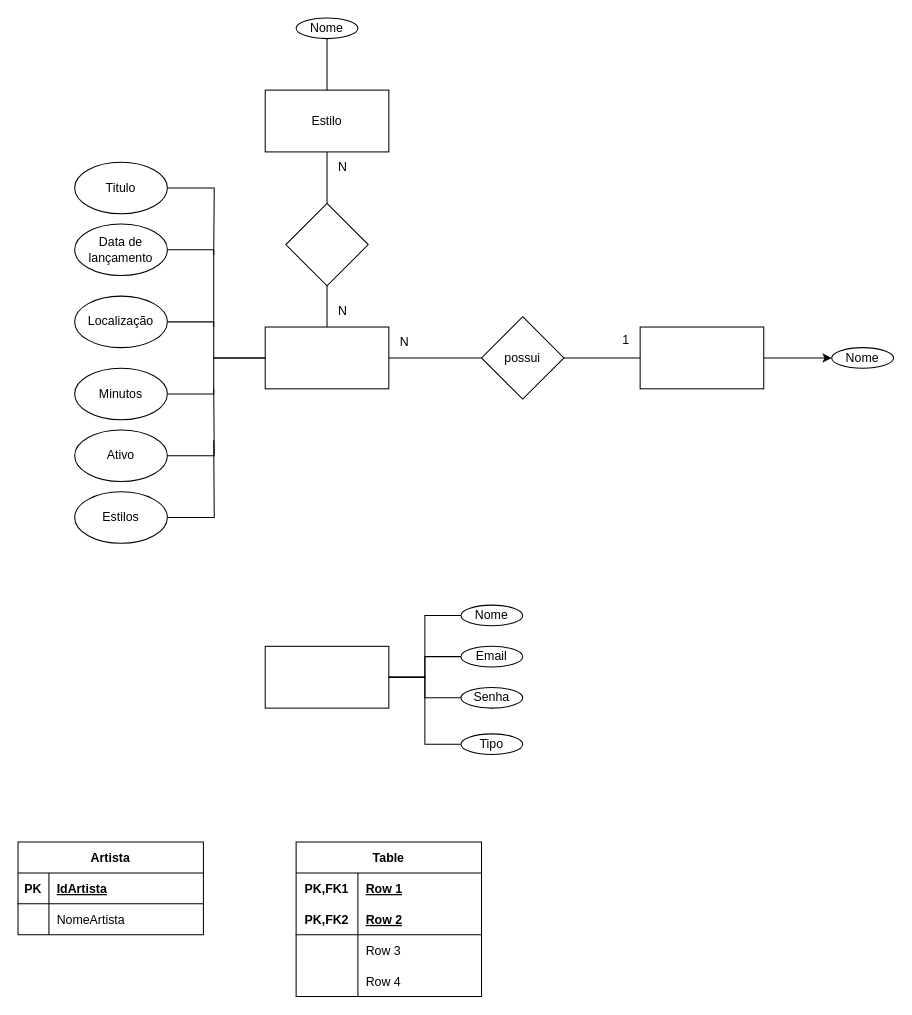
Image size: 912x1015. Some labels were removed from this diagram. Here are the shapes that lost their labels. From the top down, the centre of each, then its label:
At (326,244): "Contem".
At (326,357): "Album".
At (701,357): "Artistas".
At (326,676): "Usuário".
